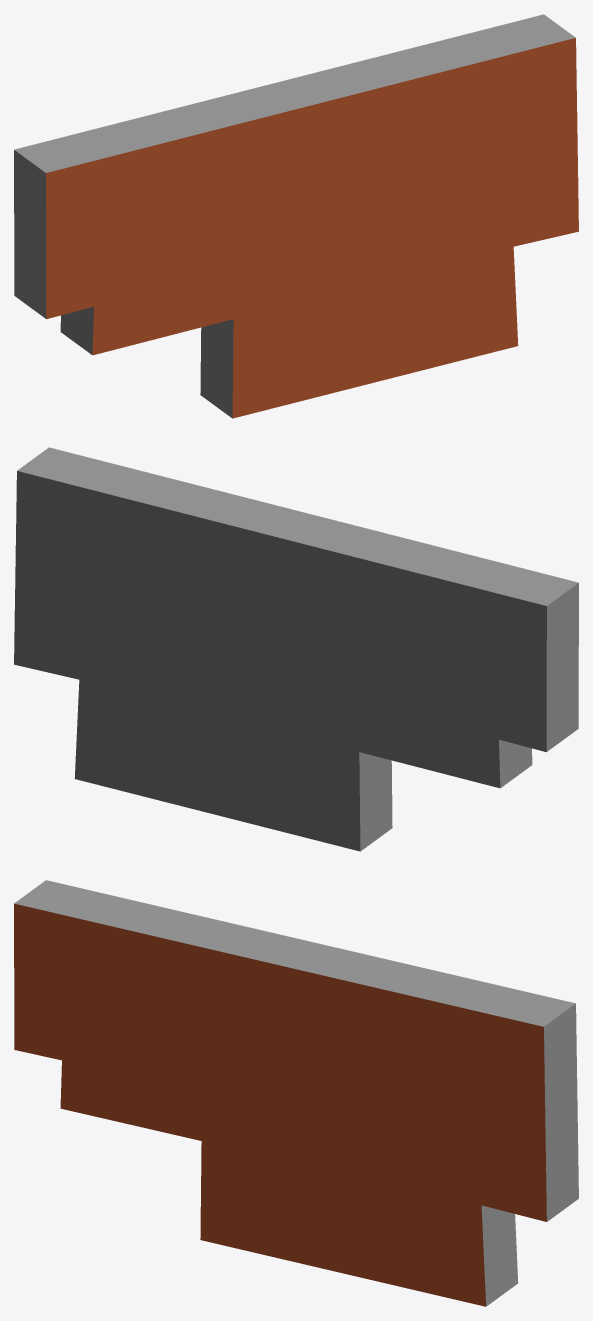
File: construction_4538_assumed_A_Casa_h6m.obj
3 views of the same model, one above another, from view 1: azimuth 30°, elevation 25°; view 2: azimuth 150°, elevation 25°; view 3: azimuth 330°, elevation 25° (orthographic).
Parts seen in each view (by area): view 1: construction_4538_assumed_A_Casa; view 2: construction_4538_assumed_A_Casa; view 3: construction_4538_assumed_A_Casa.
Part boxes in pixels (<box>): construction_4538_assumed_A_Casa: <box>14,14,578,418</box>; construction_4538_assumed_A_Casa: <box>14,447,578,851</box>; construction_4538_assumed_A_Casa: <box>14,880,578,1306</box>.
Size of the model in its own units: 57.55 by 30.65 by 6.
